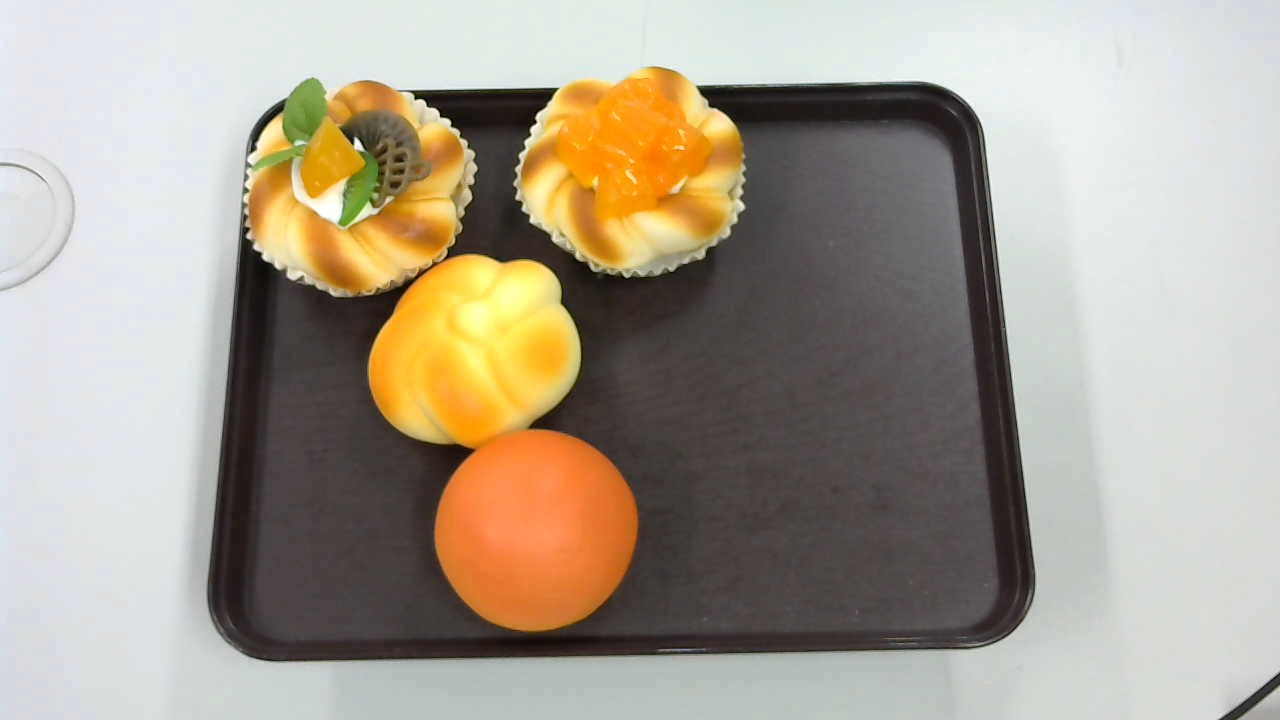bun: (434, 428, 641, 632)
fruit tart: (243, 78, 475, 297)
mango tart: (512, 65, 747, 279)
twist bread: (367, 253, 582, 452)
